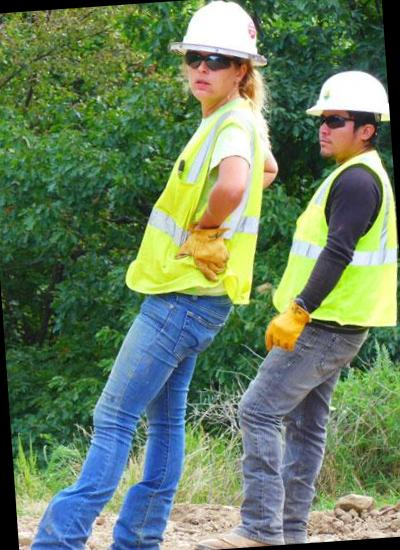Vest: (140, 98, 283, 320), (281, 150, 400, 348)
